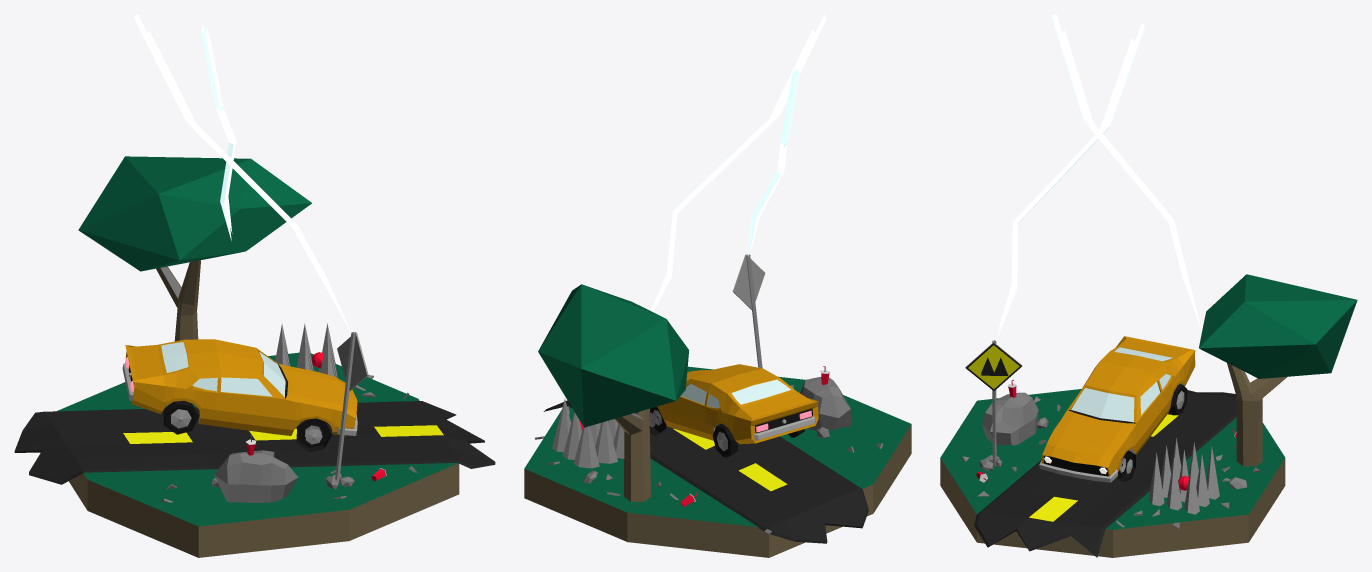
The model's file is ford-maverick.glb.
3 views of the same model, side by side, from view 1: azimuth 30°, elevation 25°; view 2: azimuth 150°, elevation 25°; view 3: azimuth 270°, elevation 25° (orthographic). The views are drawn at different scales.
Visible parts, largest first — view 1: suelo, arbol, Cube, rayo, rayo2, object 6; view 2: suelo, arbol, Cube, rayo2, rayo, object 6; view 3: suelo, arbol, Cube, rayo2, rayo, object 6.
Boxes of the visible parts, left/top/right/bottom form: suelo: left=14, top=323, right=495, bottom=557; arbol: left=78, top=156, right=354, bottom=489; Cube: left=122, top=339, right=357, bottom=451; rayo: left=133, top=14, right=351, bottom=332; rayo2: left=201, top=26, right=236, bottom=240; object 6: left=335, top=332, right=368, bottom=483; suelo: left=524, top=366, right=911, bottom=557; arbol: left=538, top=284, right=688, bottom=501; Cube: left=649, top=364, right=818, bottom=457; rayo2: left=651, top=14, right=826, bottom=312; rayo: left=748, top=69, right=799, bottom=256; object 6: left=732, top=254, right=765, bottom=368; suelo: left=940, top=389, right=1285, bottom=557; arbol: left=980, top=274, right=1357, bottom=470; Cube: left=1039, top=336, right=1195, bottom=482; rayo2: left=1052, top=14, right=1201, bottom=330; rayo: left=996, top=23, right=1145, bottom=340; object 6: left=965, top=340, right=1022, bottom=465.
Bounding box in the file's own units: 6.93 × 9.64 × 7.3.
